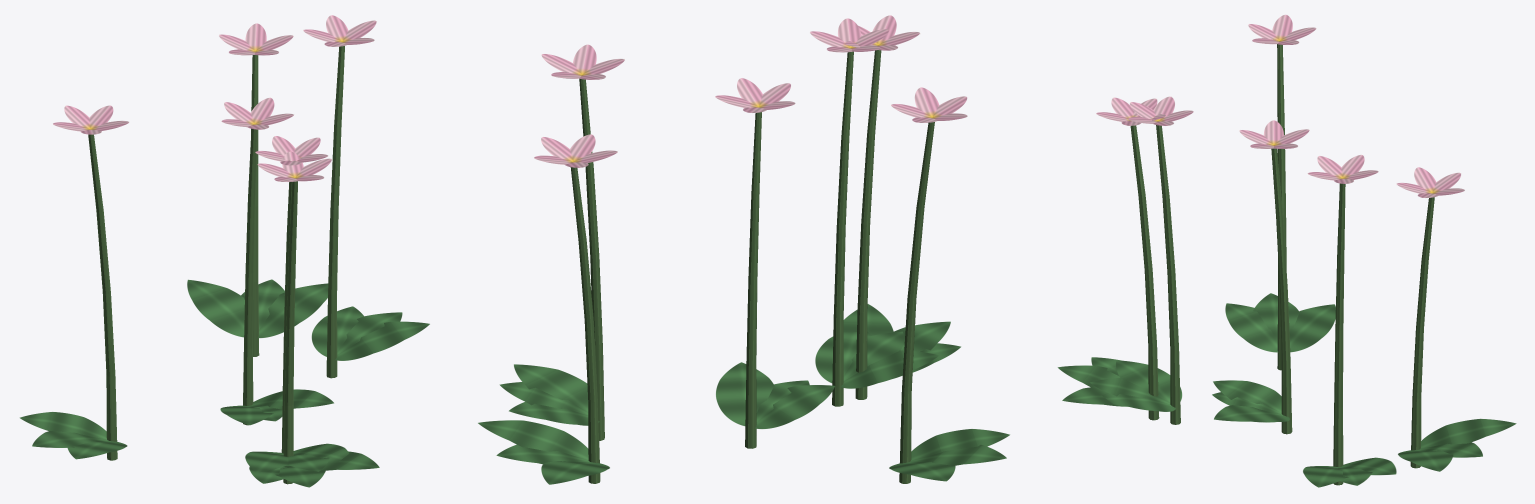
The model's file is forest_anemone_v02.glb.
3 views of the same model, side by side, from view 1: azimuth 30°, elevation 25°; view 2: azimuth 150°, elevation 25°; view 3: azimuth 270°, elevation 25° (orthographic). The views are drawn at different scales.
Parts seen in each view (by area): view 1: forest_anemone_v02; view 2: forest_anemone_v02; view 3: forest_anemone_v02.
Boxes of the visible parts, x1=… form: forest_anemone_v02: x1=19, y1=15, x2=429, y2=487; forest_anemone_v02: x1=478, y1=15, x2=1009, y2=484; forest_anemone_v02: x1=1057, y1=14, x2=1516, y2=487.
Bounding box in the file's own units: 0.2572 × 0.1974 × 0.258.
3 materials, 3 textured.
